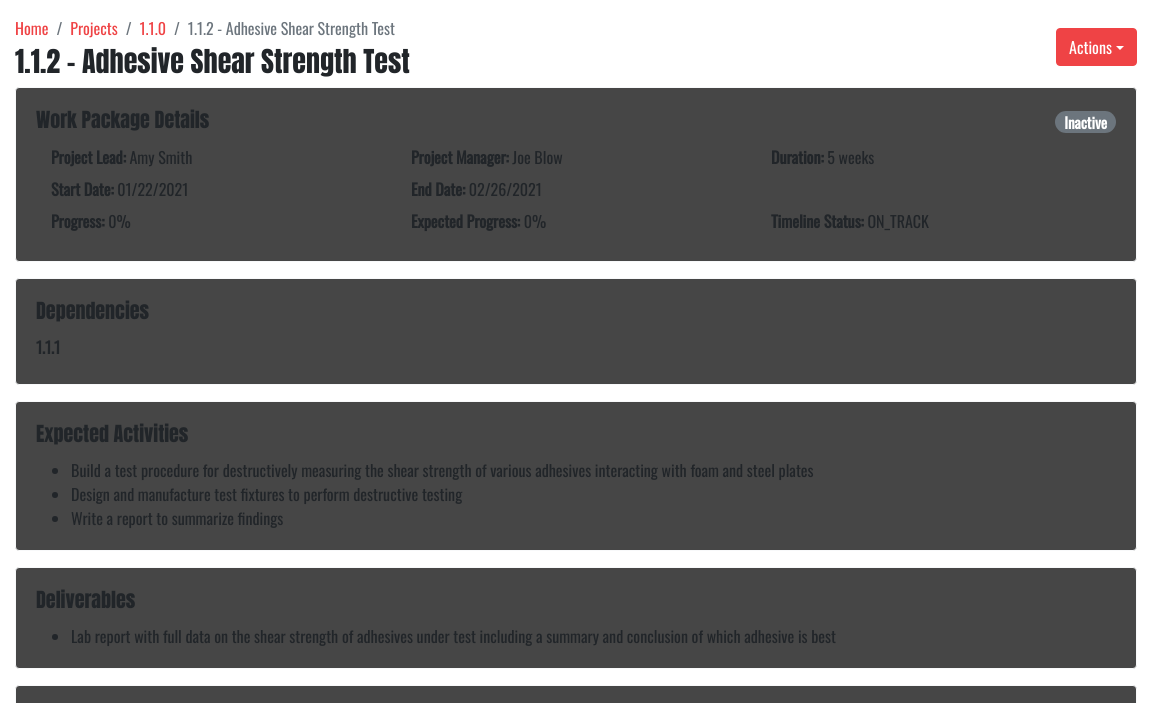
it: work package container view › renders action menu buttons for inactive work package
Click the button "Actions" at (1097, 47), box [1056,28,1137,66]
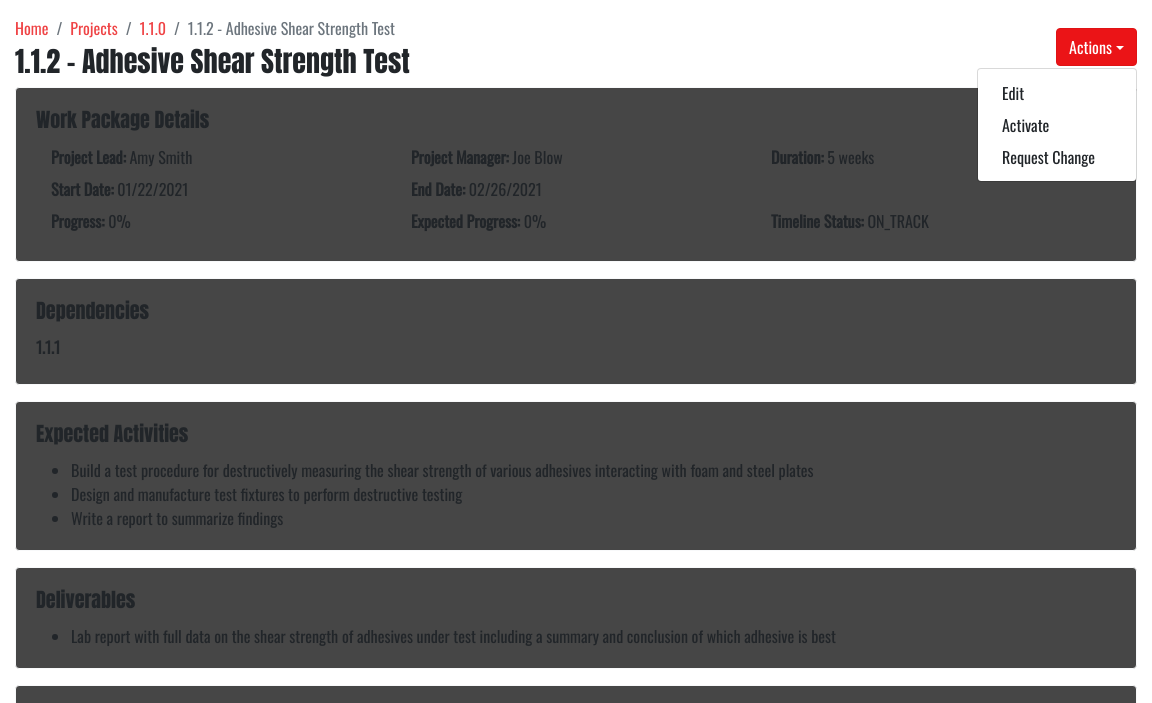
Expected: the button "Edit" is shown, [978,77,1136,109]
Expected: the button "Activate" is shown, [978,109,1136,141]
